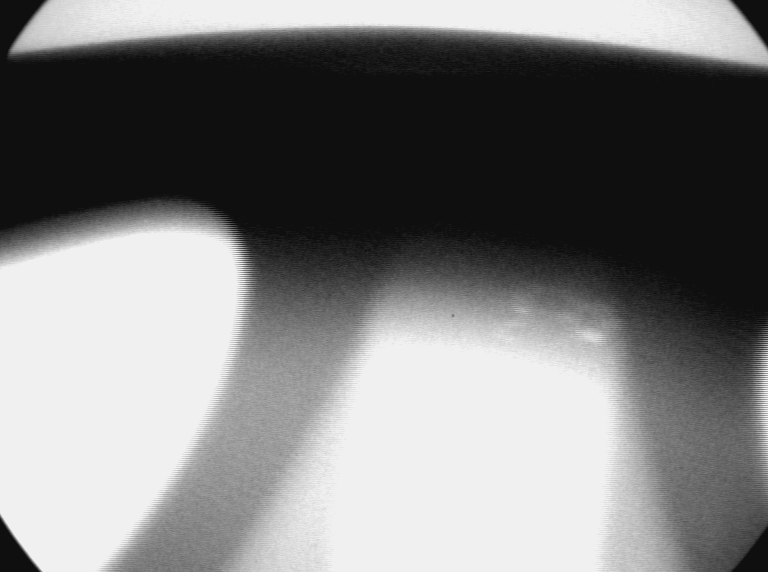defect: (496, 315, 529, 352)
